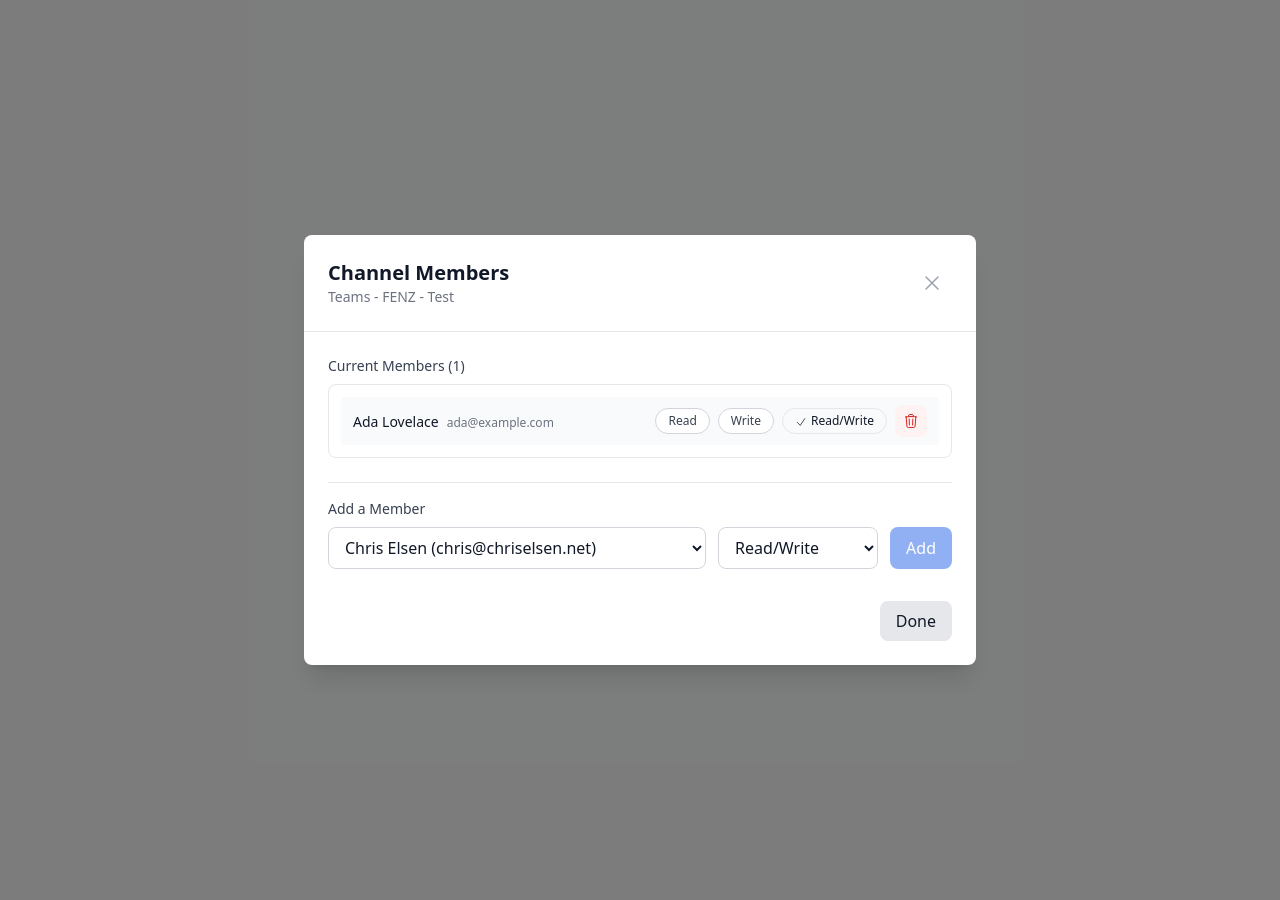
Test: ChannelMembersDialog (mounted) › adds the selected member with the selected permission via channelsAPI.addMember, then refreshes the list
Step 1. Select "Chris Elsen (chris@chriselsen.net)" in the dropdown named "Select a member to add" → x=517, y=548, box [328,527,706,569]
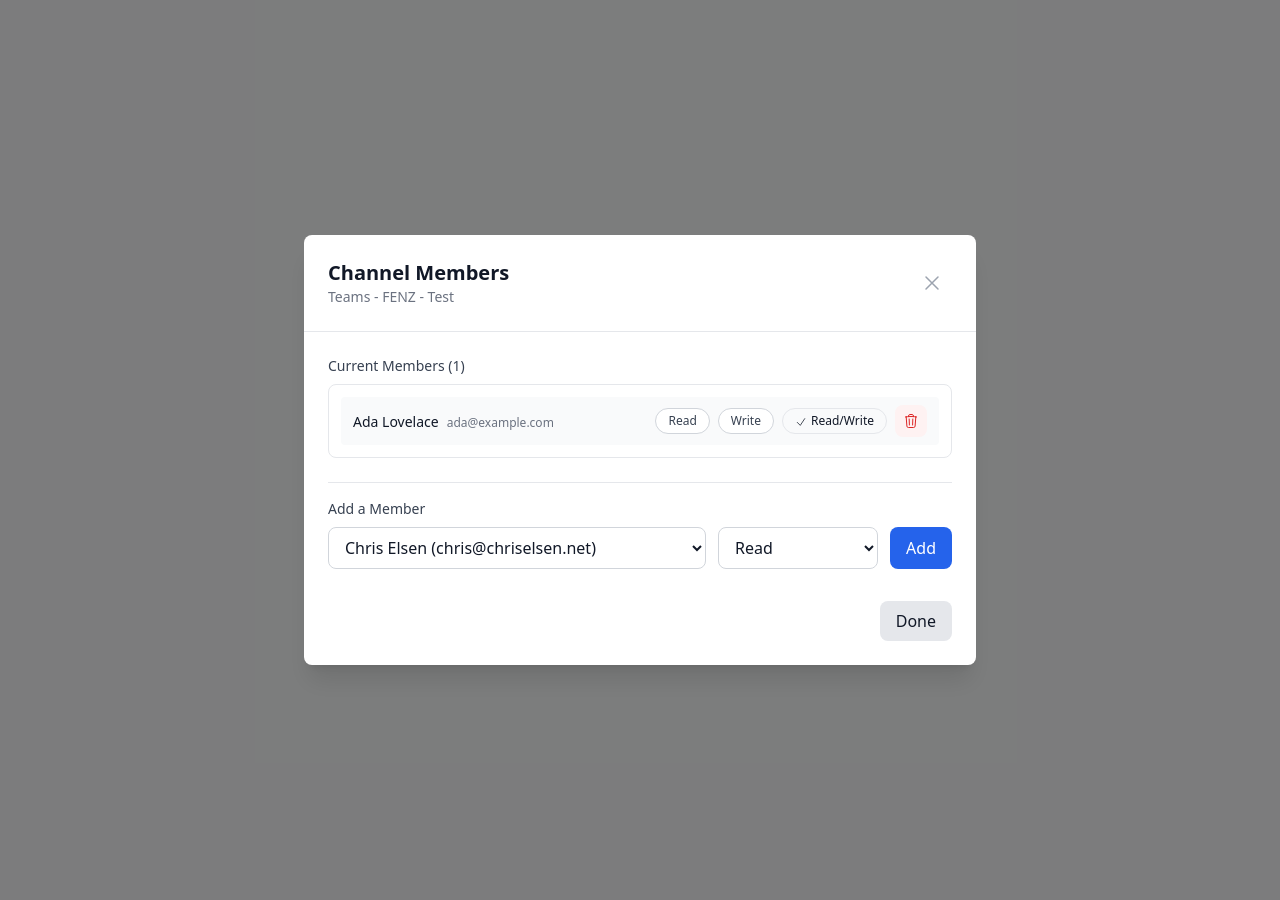
Step 2. Select "Read" in the dropdown named "Select permission" → x=798, y=548, box [718,527,878,569]
Step 3. Submit the form, box [328,482,952,569]
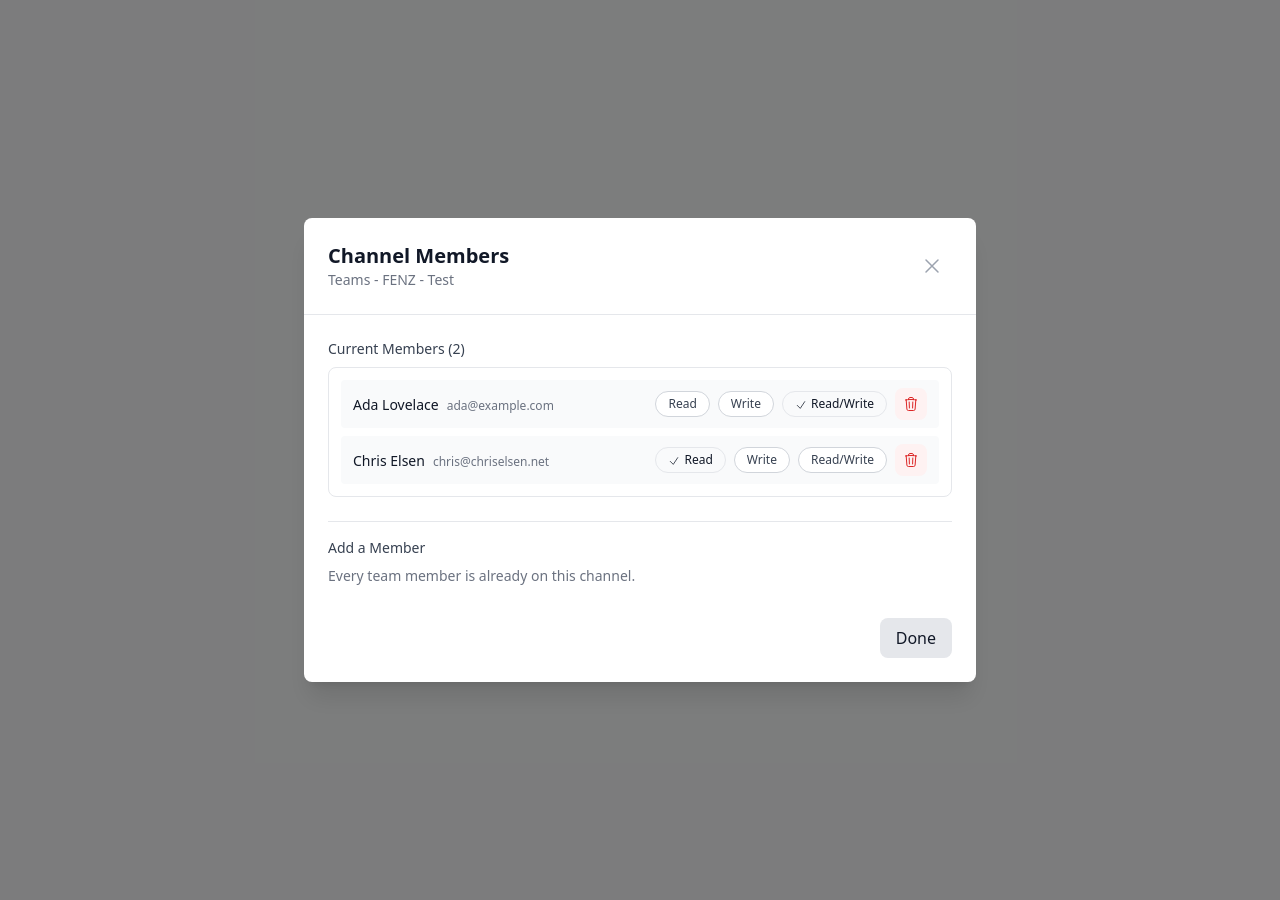
Result: the text "Chris Elsen" is shown at [353,451,425,470]
